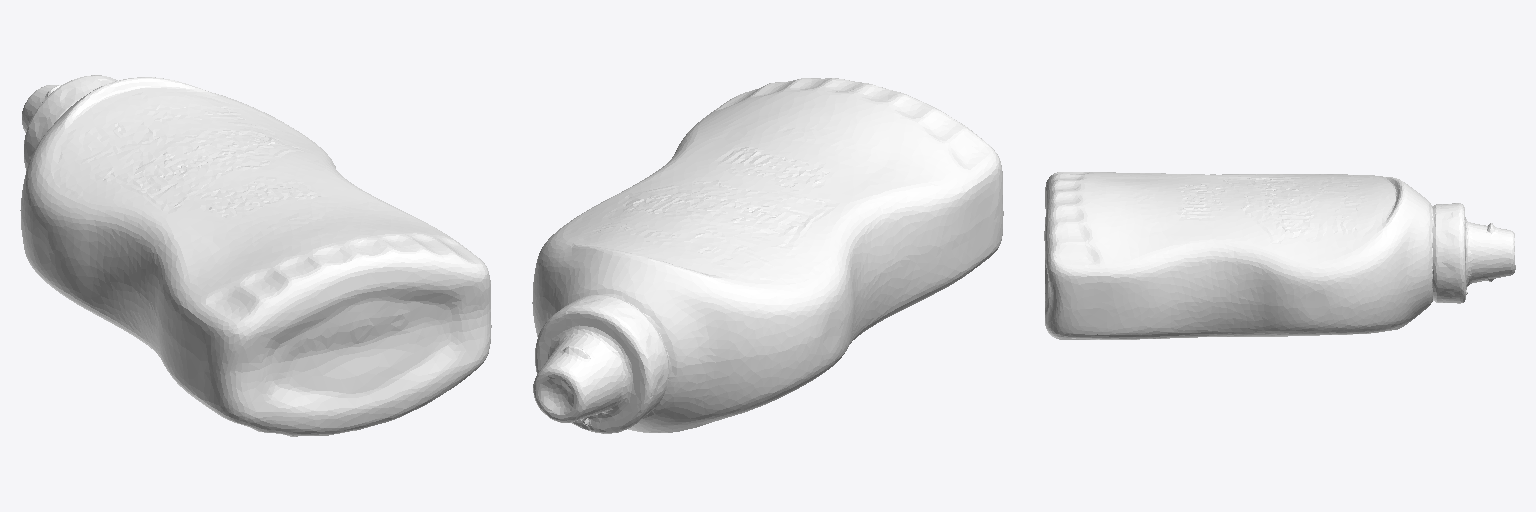
The robot description file, URDF, robot "mustard_bottle_flipped":
<robot name="mustard_bottle_flipped">
    <link name="base_link">
        <visual>
            <origin xyz="-0.014324160907744188 -0.07504229718762659 0.023347281696173804" rpy="0.0 0.0 0.0" />
            <geometry>
                <mesh filename="mustard_bottle_flipped/textured.obj" scale="1 1 1" />
            </geometry>
            <material name="texture">
                <color rgba="1.0 1.0 1.0 1.0" />
            </material>
        </visual>
        <collision>
            <origin xyz="-0.014324160907744188 -0.07504229718762659 0.023347281696173804" rpy="0.0 0.0 0.0" />
            <geometry>
                <mesh filename="mustard_bottle_flipped/textured_vhacd.stl" scale="1 1 1" />
            </geometry>
        </collision>
        <inertial>
            <mass value="1.0" />
            <inertia ixx="1e-3" ixy="0.0" ixz="0.0" iyy="1e-3" iyz="0.0" izz="1e-3" />
        </inertial>
    </link>
</robot>

--- What the picture shows (computed from the rendered views, not written in the file) ---
3 views of the same robot in one strip: view 1: azimuth 30°, elevation 25°; view 2: azimuth 150°, elevation 25°; view 3: azimuth 270°, elevation 25° (orthographic).
Model mustard_bottle_flipped with 1 links and 0 joints (none), rooted at base_link, posed every joint at zero.
Visible links, largest first — view 1: base_link; view 2: base_link; view 3: base_link.
Boxes of the visible links, box(x1,y1,x2,y2) form: base_link: box(20, 75, 491, 436); base_link: box(532, 78, 1003, 433); base_link: box(1044, 172, 1515, 339).
Size in the robot's own frame: 0.096 by 0.1913 by 0.0582 metres.
1 mesh visuals loaded from 1 distinct referenced files (1 OBJ).
